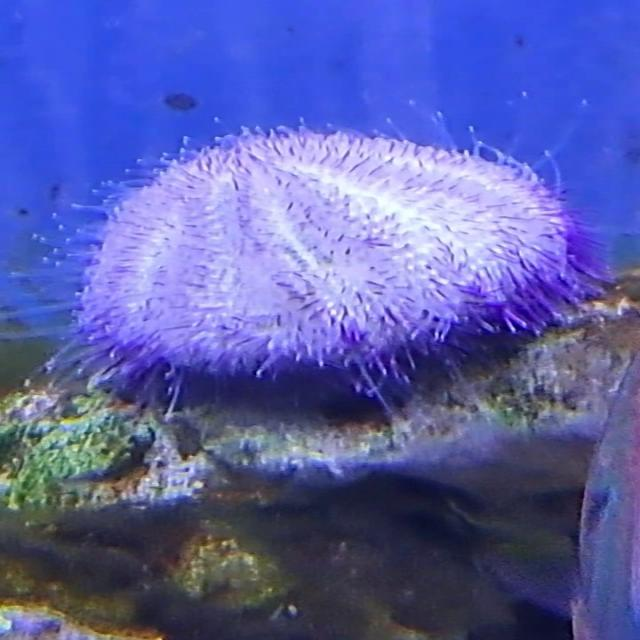Deniz Kestanesi: (55, 107, 615, 414)
